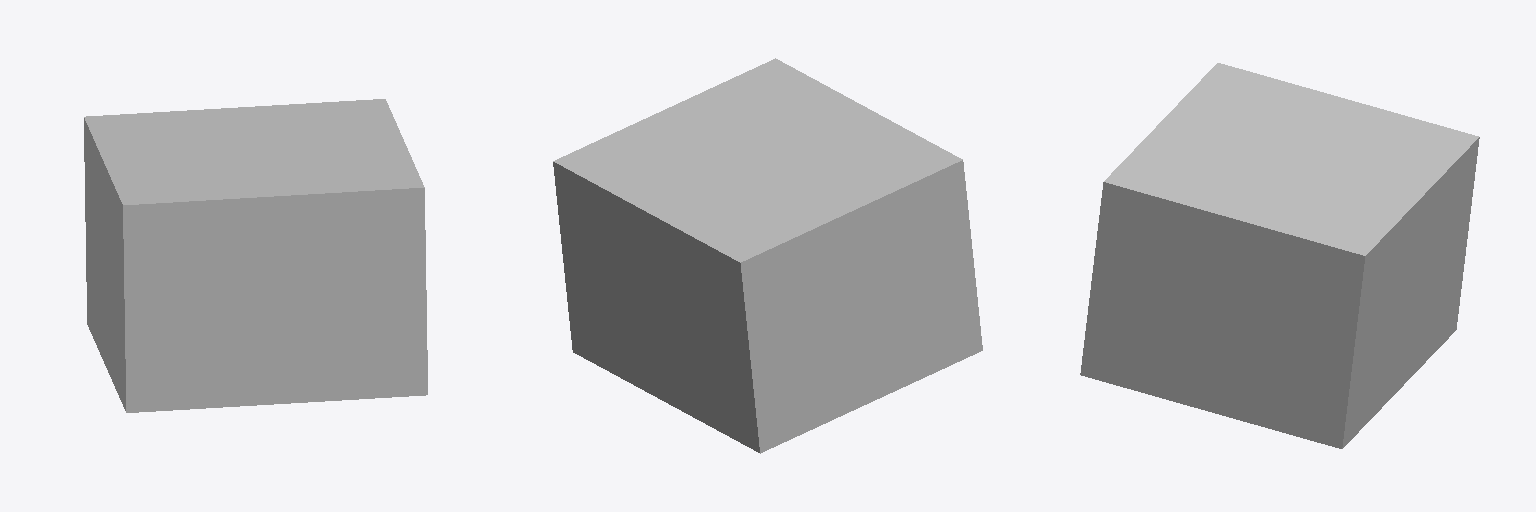
File: verde.obj
The picture shows the model from 3 angles: view 1: azimuth 30°, elevation 25°; view 2: azimuth 150°, elevation 25°; view 3: azimuth 270°, elevation 25°; orthographic projection.
Bounding box in the file's own units: 18.3 × 11.51 × 18.38.